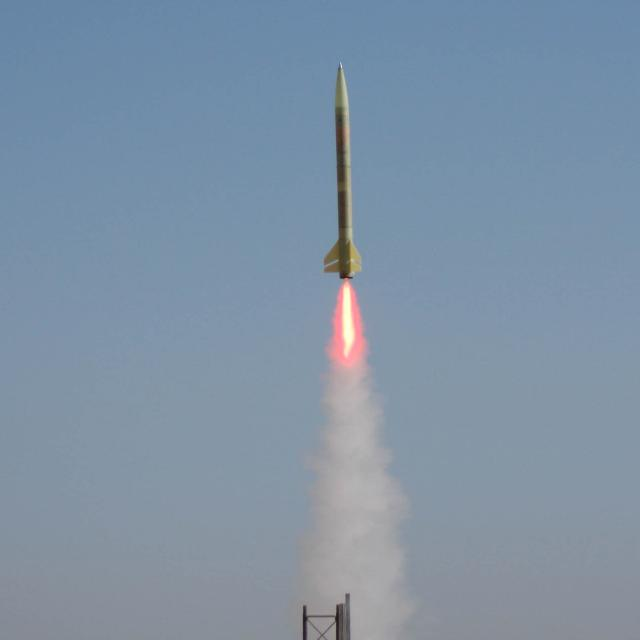Rocket: (323, 61, 364, 281)
